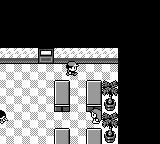main: (66, 62, 79, 75)
no-caminable: (0, 0, 159, 143), (102, 80, 119, 144), (54, 48, 118, 63), (0, 48, 38, 64), (53, 80, 71, 113), (86, 80, 102, 112), (54, 127, 70, 144), (86, 128, 102, 144)
npc: (90, 108, 101, 123), (0, 110, 6, 124)
puerta: (38, 49, 53, 63)
